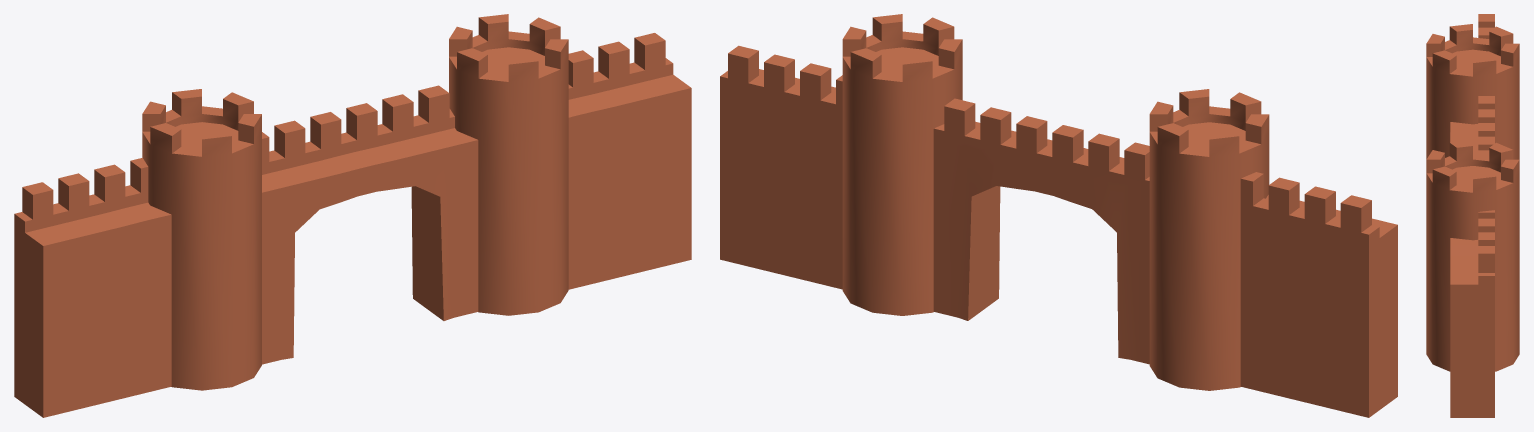
The model's file is Castle_player2.fbx.
The picture shows the model from 3 angles, left to right: view 1: azimuth 30°, elevation 25°; view 2: azimuth 150°, elevation 25°; view 3: azimuth 270°, elevation 25°; orthographic projection. The views are drawn at different scales.
Visible parts, largest first — view 1: Walls.015, Cylinder.001, Cylinder.002; view 2: Walls.015, Cylinder.001, Cylinder.002; view 3: Cylinder.001, Walls.015, Cylinder.002.
Boxes of the visible parts, x1,y1,x2,y2 form: Walls.015: (14,33,691,417); Cylinder.001: (449,14,568,315); Cylinder.002: (142,89,261,390); Walls.015: (720,45,1397,417); Cylinder.001: (842,14,962,315); Cylinder.002: (1149,89,1269,390); Cylinder.001: (1426,140,1519,371); Walls.015: (1450,14,1494,417); Cylinder.002: (1426,24,1519,159).
Size of the model in its own units: 47.07 by 17.43 by 7.54.
